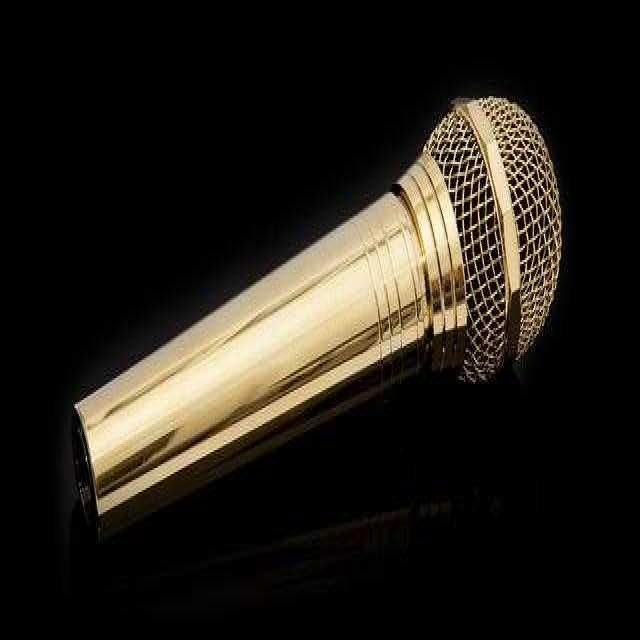microphone: (37, 53, 618, 557)
